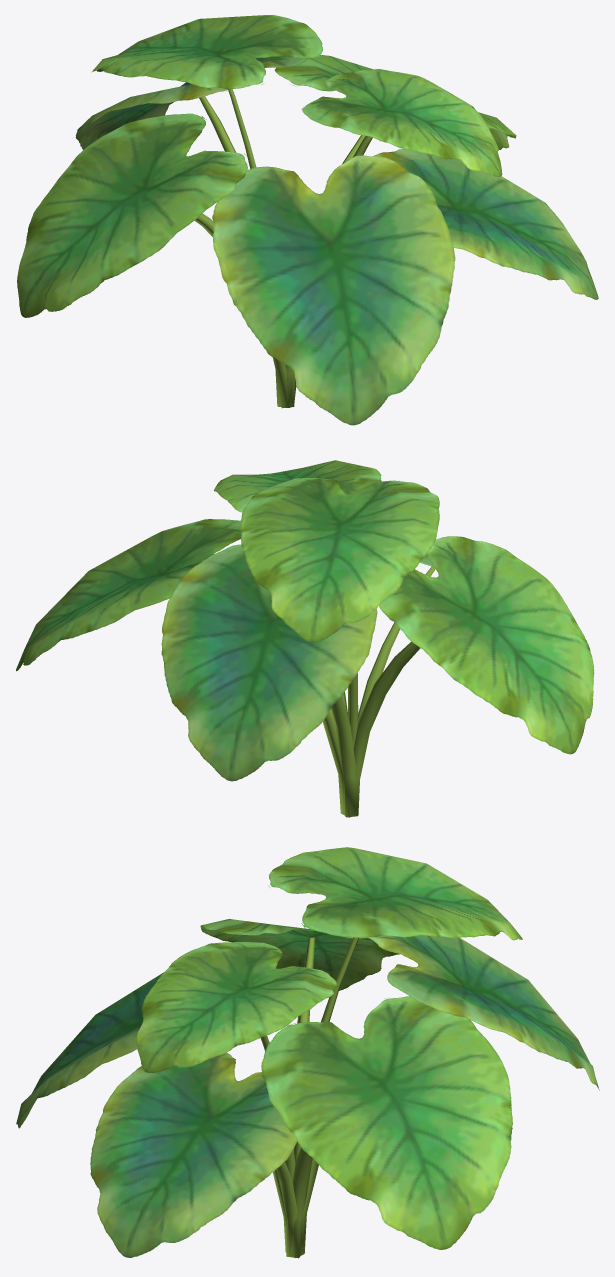
The model's file is P_ElephantEars03.obj.
The picture shows the model from 3 angles, top to bottom: view 1: azimuth 30°, elevation 25°; view 2: azimuth 150°, elevation 25°; view 3: azimuth 270°, elevation 25°; orthographic projection. The views are drawn at different scales.
Size of the model in its own units: 3.66 by 2.34 by 3.47.
